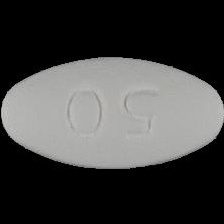54868-6043: (0, 0, 224, 224)
